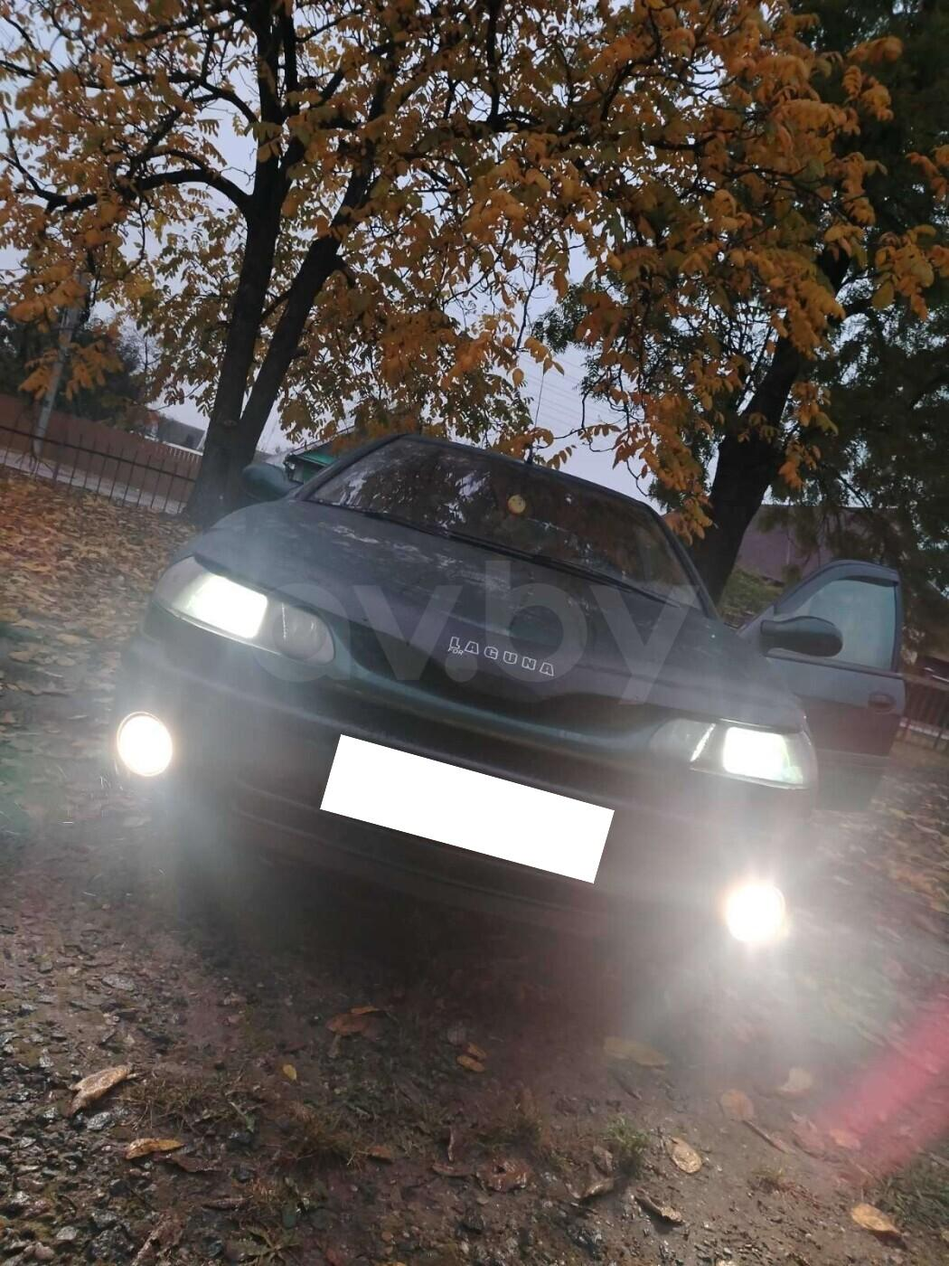Laguna_1998-2001: (105, 429, 898, 978)
